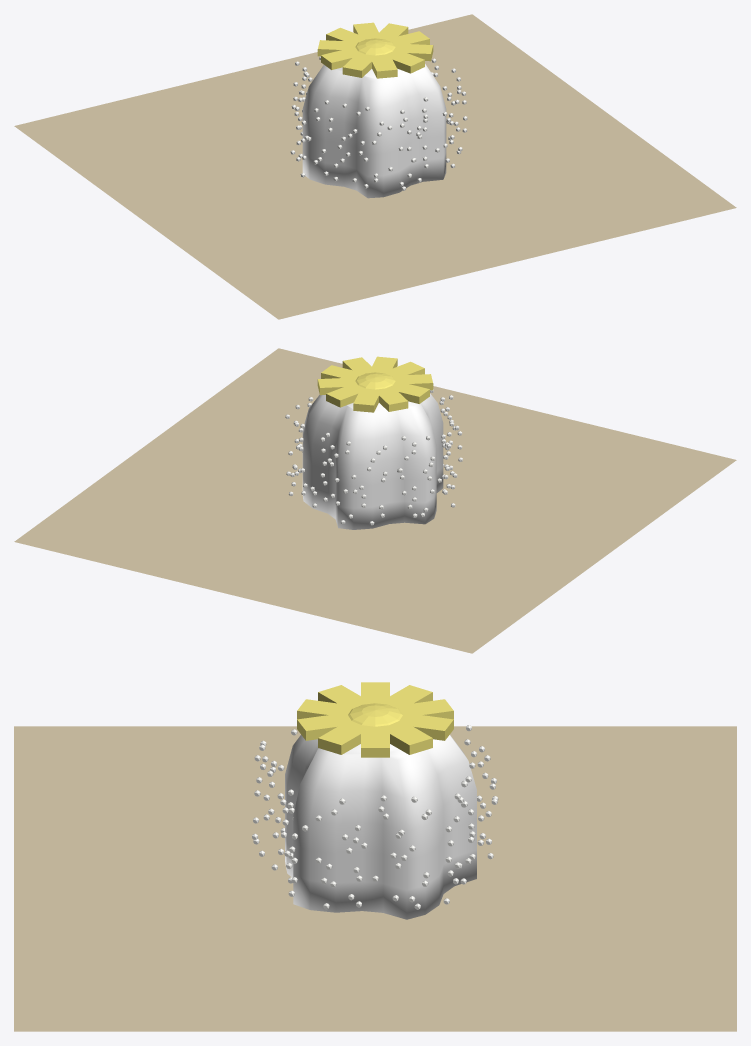
3 views of the same model, one above another, from view 1: azimuth 30°, elevation 25°; view 2: azimuth 150°, elevation 25°; view 3: azimuth 270°, elevation 25° (orthographic). The views are drawn at different scales.
Size of the model in its own units: 4 by 1.03 by 4.
